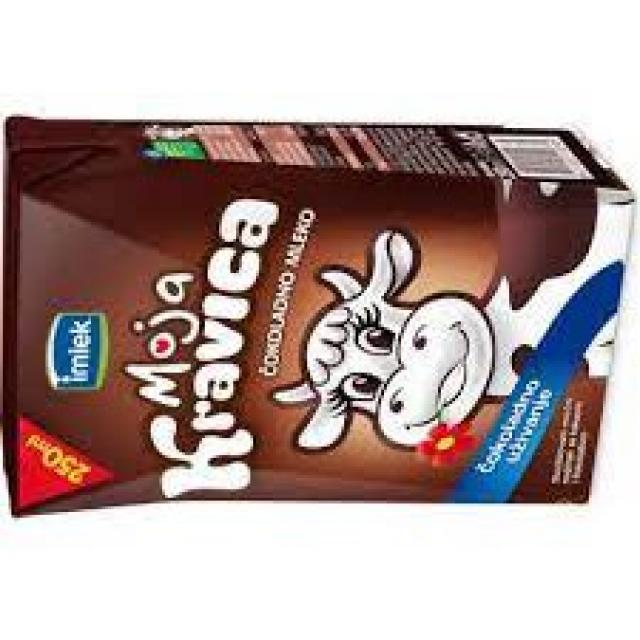non_white_jug: (0, 111, 640, 520)
